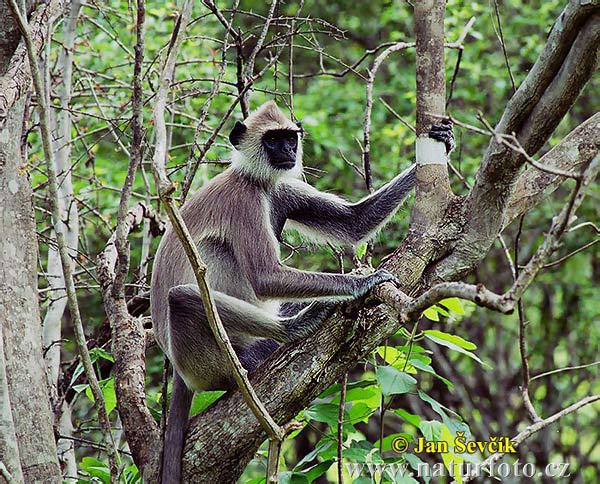monkey: (144, 97, 462, 448)
